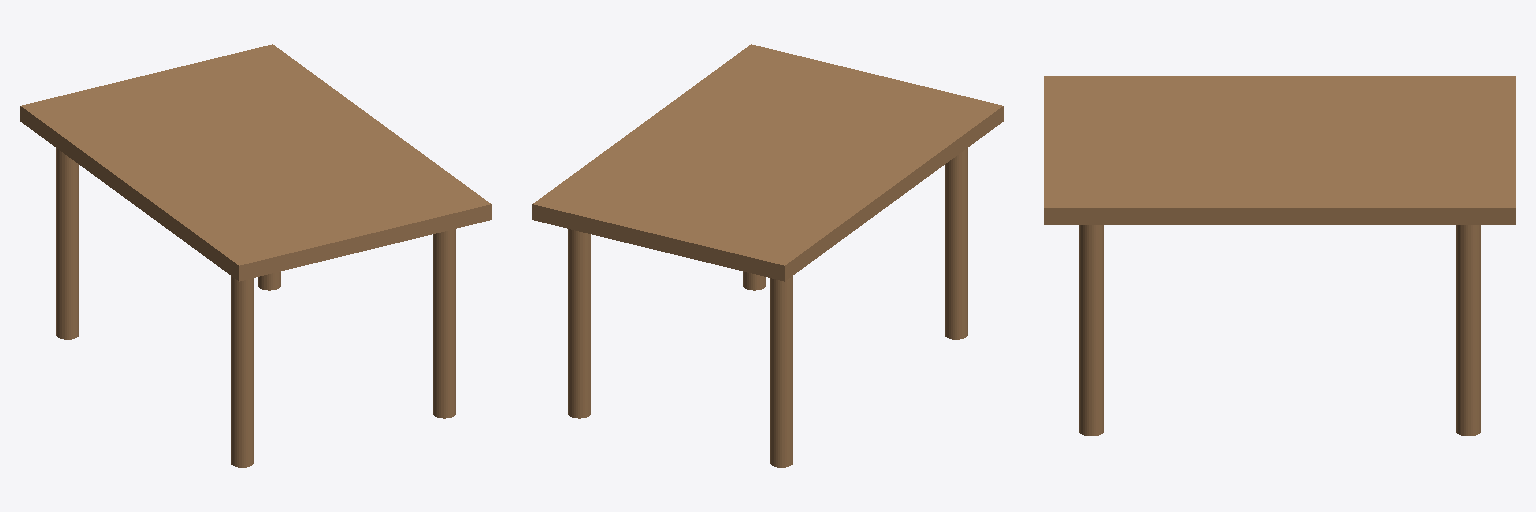
The robot description file, URDF, robot "table":
<?xml version="1.0"?>
<robot name="table">
    <!-- Colors -->
    <material name="red">
        <color rgba="0.682 0.537 0.392 1"/>
    </material>

    <!-- table -->
    <link name="cylinder_1">
        <visual>
            <geometry>
                <cylinder length="0.8" radius="0.04"/>
                <origin rpy="0 0 0" xyz="0 0 0"/>
            </geometry>
            <material name="red"/>
        </visual>
        <collision>
             <geometry>
                <cylinder length="0.8" radius="0.04"/>
                <origin rpy="0 0 0" xyz="0 0 0"/>
            </geometry>
        </collision>
        <inertial>
            <mass value="0"/>
            <inertia ixx="0" ixy="0" ixz="0" iyy="0" iyz="0" izz="0"/>
        </inertial>
    </link>

    <link name="cylinder_2">
        <visual>
            <geometry>
                <cylinder length="0.8" radius="0.04"/>
                <origin rpy="0 0 0" xyz="0 0 0"/>
            </geometry>
            <material name="red"/>
        </visual>
        <collision>
             <geometry>
                <cylinder length="0.8" radius="0.04"/>
                <origin rpy="0 0 0" xyz="0 0 0"/>
            </geometry>
        </collision>
        <inertial>
            <mass value="0"/>
            <inertia ixx="0" ixy="0" ixz="0" iyy="0" iyz="0" izz="0"/>
        </inertial>
    </link>

    <link name="cylinder_3">
        <visual>
            <geometry>
                <cylinder length="0.8" radius="0.04"/>
                <origin rpy="0 0 0" xyz="0 0 0"/>
            </geometry>
            <material name="red"/>
        </visual>
        <collision>
             <geometry>
                <cylinder length="0.8" radius="0.04"/>
                <origin rpy="0 0 0" xyz="0 0 0"/>
            </geometry>
        </collision>
        <inertial>
            <mass value="0"/>
            <inertia ixx="0" ixy="0" ixz="0" iyy="0" iyz="0" izz="0"/>
        </inertial>
    </link>


    <link name="cylinder_4">
        <visual>
            <geometry>
                <cylinder length="0.8" radius="0.04"/>
                <origin rpy="0 0 0" xyz="0 0 0"/>
            </geometry>
            <material name="red"/>
        </visual>
        <collision>
             <geometry>
                <cylinder length="0.8" radius="0.04"/>
                <origin rpy="0 0 0" xyz="0 0 0"/>
            </geometry>
        </collision>
        <inertial>
            <mass value="0"/>
            <inertia ixx="0" ixy="0" ixz="0" iyy="0" iyz="0" izz="0"/>
        </inertial>
    </link>

    <link name="seat">
        <visual>
            <geometry>
                <box size="1 1.5 0.06" />
                <origin rpy="0 0 0" xyz="0 0 0"/>
            </geometry>
            <material name="red"/>
        </visual>
        <collision>
             <geometry>
                <box size="1 1.5 0.06" />
                <origin rpy="0 0 0" xyz="0 0 0"/>
            </geometry>
        </collision>
        <inertial>
            <mass value="0"/>
            <inertia ixx="0" ixy="0" ixz="0" iyy="0" iyz="0" izz="0"/>
        </inertial>
    </link>

    <joint name="cylinder_1_to_seat" type="fixed">
      <parent link="seat"/>
      <child link="cylinder_1"/>
      <origin xyz="0.4 -0.6 -0.4"/>
    </joint>

    <joint name="cylinder_2_to_seat" type="fixed">
      <parent link="seat"/>
      <child link="cylinder_2"/>
      <origin xyz="0.4 0.6 -0.4"/>
    </joint>

    <joint name="cylinder_3_to_seat" type="fixed">
      <parent link="seat"/>
      <child link="cylinder_3"/>
      <origin xyz="-0.4 0.6 -0.4"/>
    </joint>

    <joint name="cylinder_4_to_seat" type="fixed">
      <parent link="seat"/>
      <child link="cylinder_4"/>
      <origin xyz="-0.4 -0.6 -0.4"/>
    </joint>

</robot>

--- What the picture shows (computed from the rendered views, not written in the file) ---
The picture shows the robot from 3 angles, left to right: view 1: azimuth 30°, elevation 25°; view 2: azimuth 150°, elevation 25°; view 3: azimuth 270°, elevation 25°; orthographic projection.
Model table with 5 links and 4 joints (4 fixed), rooted at seat, posed every joint at zero.
Visible links, largest first — view 1: seat, cylinder_4, cylinder_1, cylinder_3; view 2: seat, cylinder_3, cylinder_2, cylinder_4; view 3: seat, cylinder_1, cylinder_2.
Link boxes in pixels (bbox=[...]): seat: bbox=[20, 44, 491, 281]; cylinder_4: bbox=[231, 276, 253, 467]; cylinder_1: bbox=[433, 229, 455, 418]; cylinder_3: bbox=[56, 148, 78, 339]; seat: bbox=[532, 44, 1003, 281]; cylinder_3: bbox=[770, 276, 792, 467]; cylinder_2: bbox=[568, 229, 590, 418]; cylinder_4: bbox=[945, 148, 967, 339]; seat: bbox=[1044, 76, 1515, 224]; cylinder_1: bbox=[1079, 225, 1103, 435]; cylinder_2: bbox=[1456, 225, 1480, 435].
Size in the robot's own frame: 1 by 1.5 by 0.83 metres.
Geometry: primitives only (box / cylinder / sphere), no mesh files.